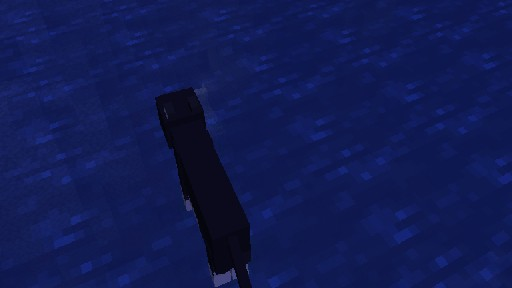cat: (154, 86, 292, 288)
